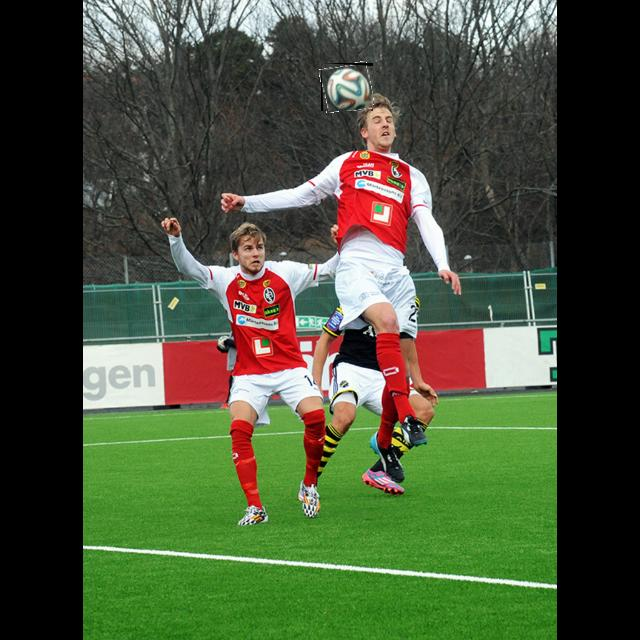Football: (321, 63, 373, 111)
